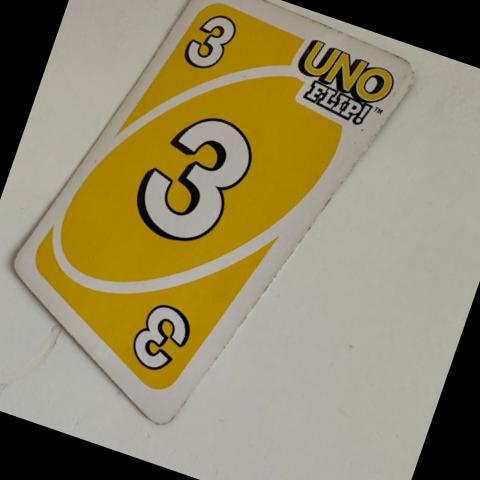draw2_blue: (135, 121, 259, 246), (127, 299, 191, 363), (188, 16, 238, 78)
